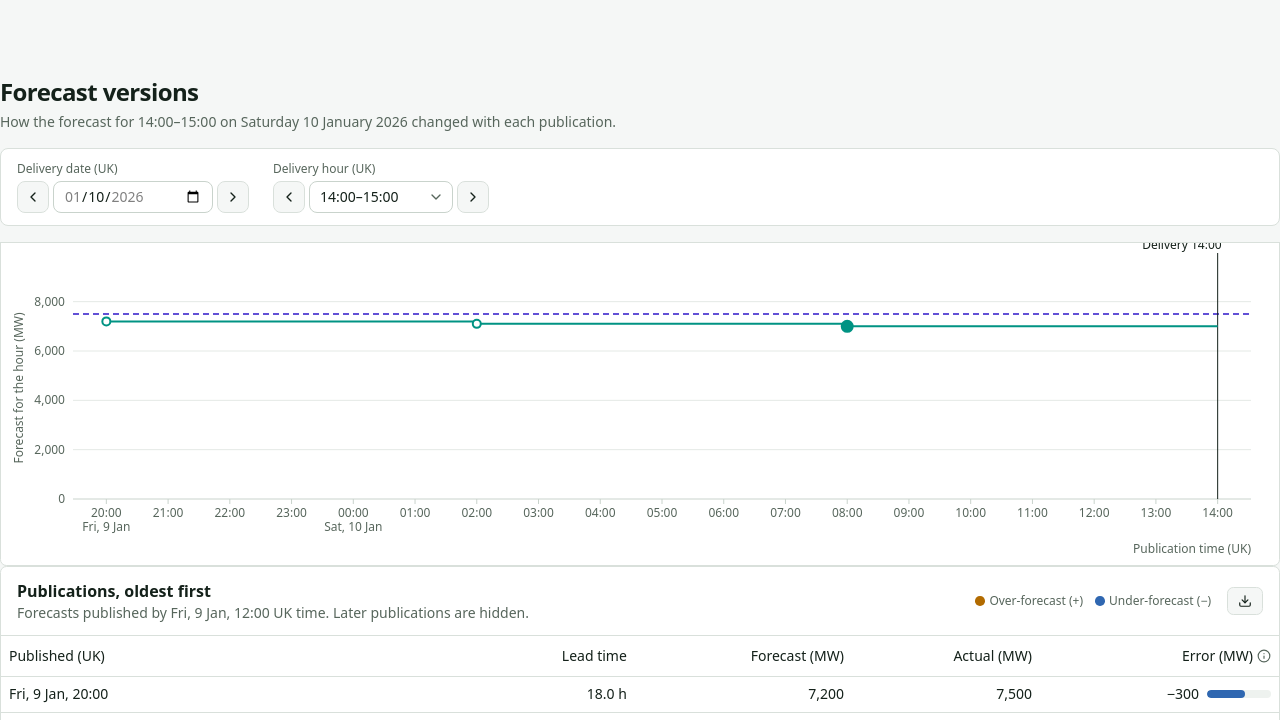
it: the publication timeline redraws for the previous delivery day
Check: the picture named "3 publications" is shown, box x1=9 y1=241 x2=1271 y2=561
What coordinates should you click on to do the following:
click the button named "Previous day"
I would click on:
 (33, 197)
Its box is x1=17 y1=181 x2=49 y2=213.
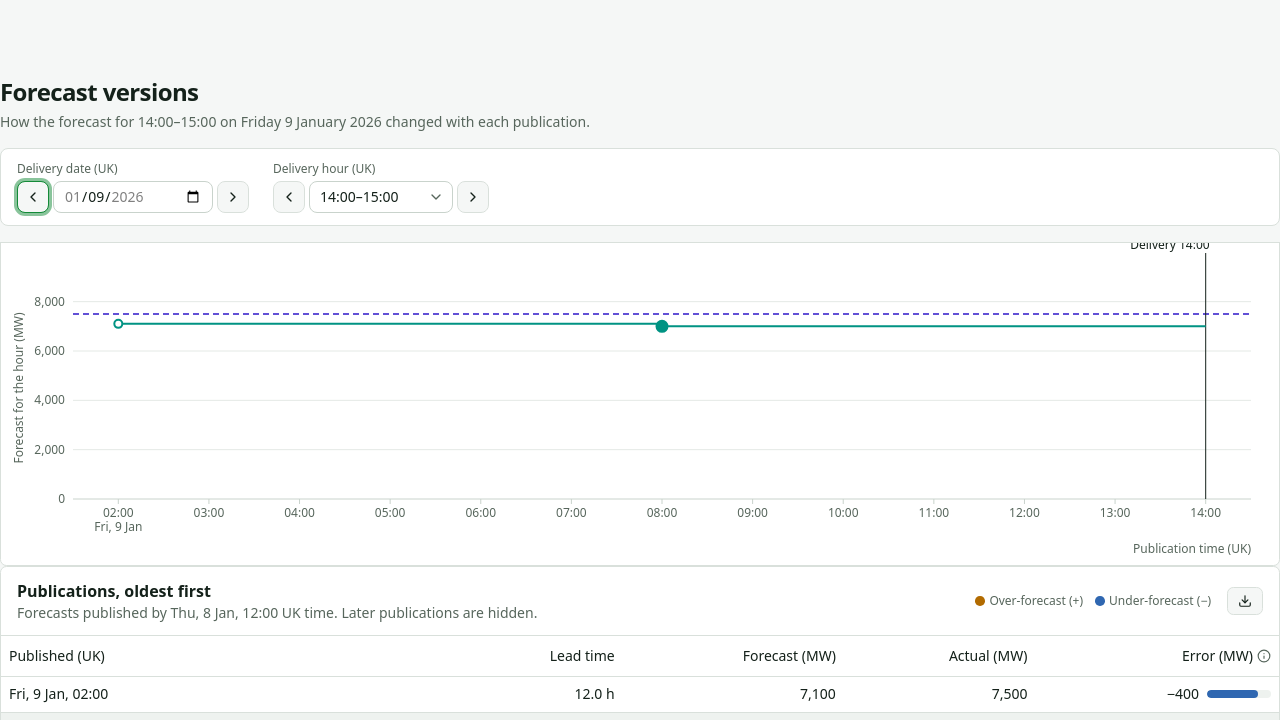
Check: the picture named "2 publications" is shown, box x1=9 y1=241 x2=1271 y2=561
